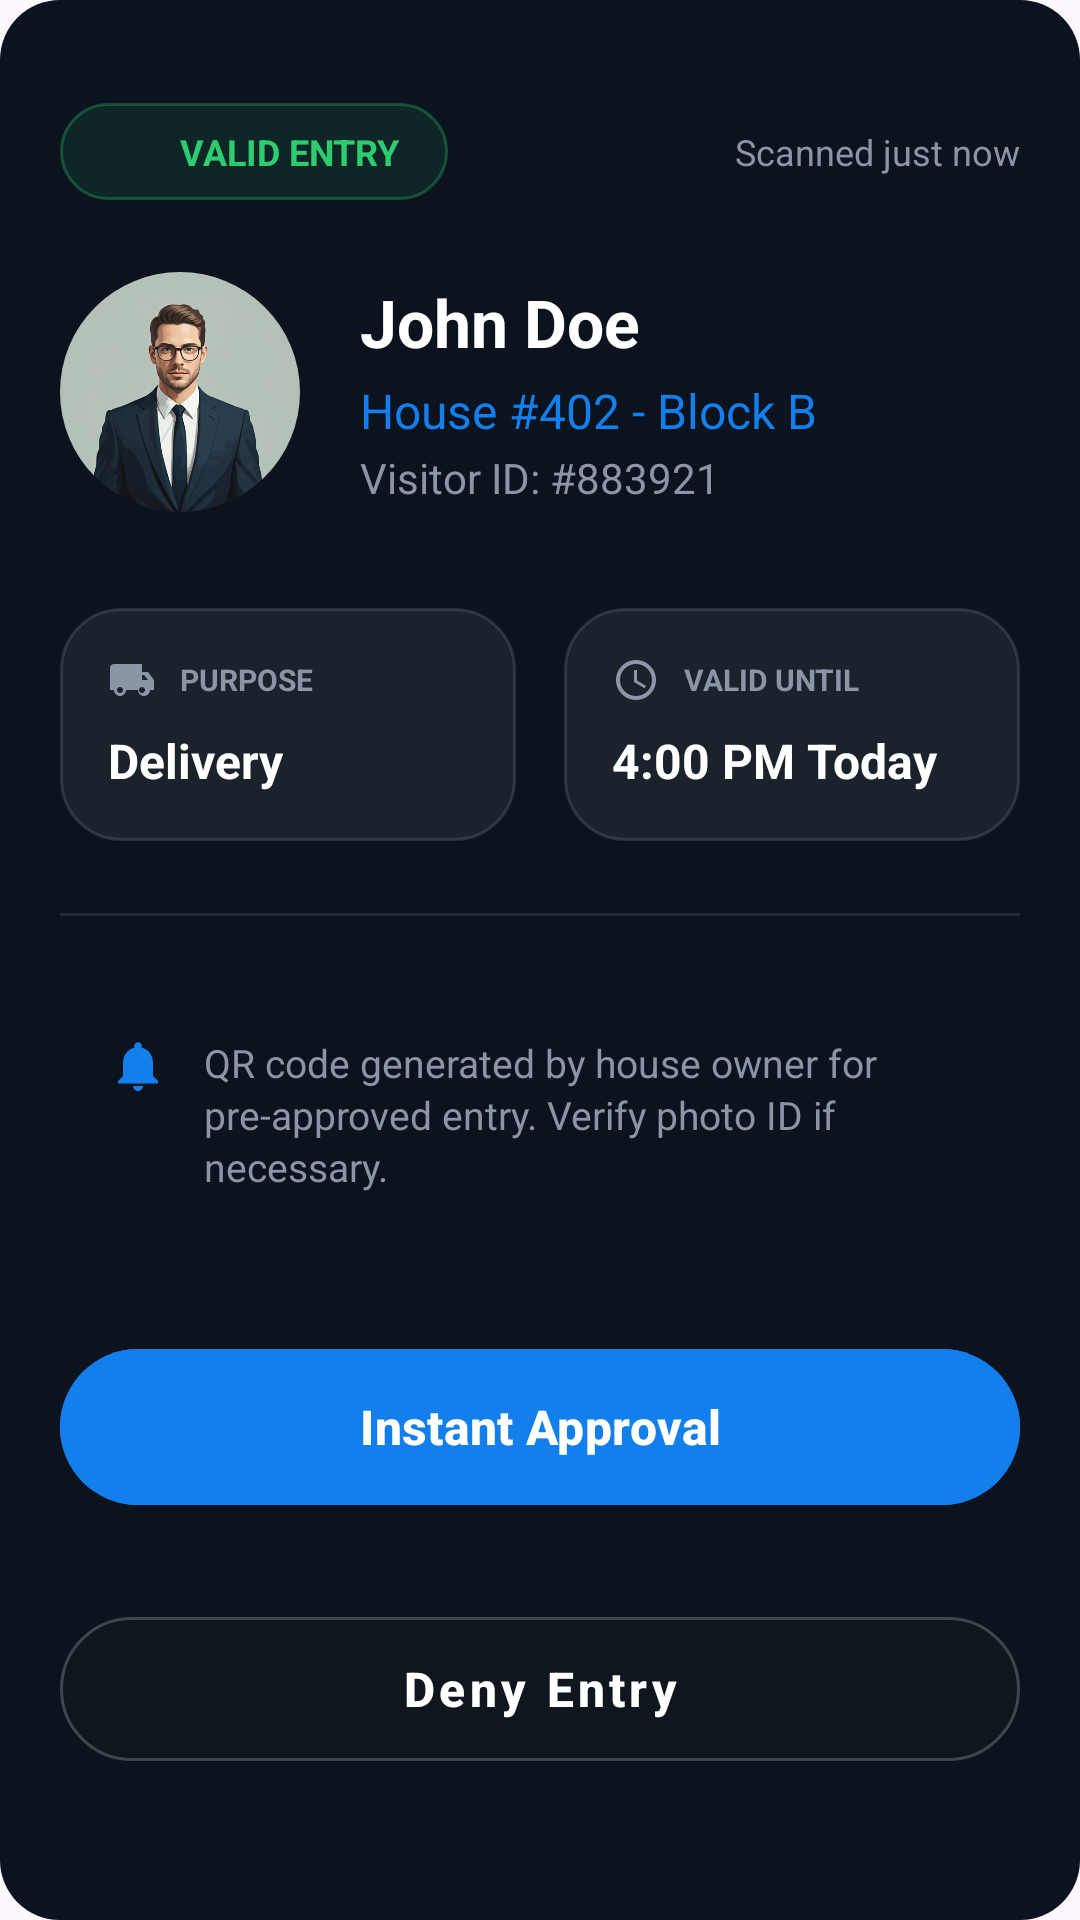

Where icons sit on this 1080px×1920px app screen, as (x1, y1, x2, y2):
alerts: (118, 1042, 158, 1091)
person: (60, 272, 300, 511)
time: (616, 660, 656, 700)
